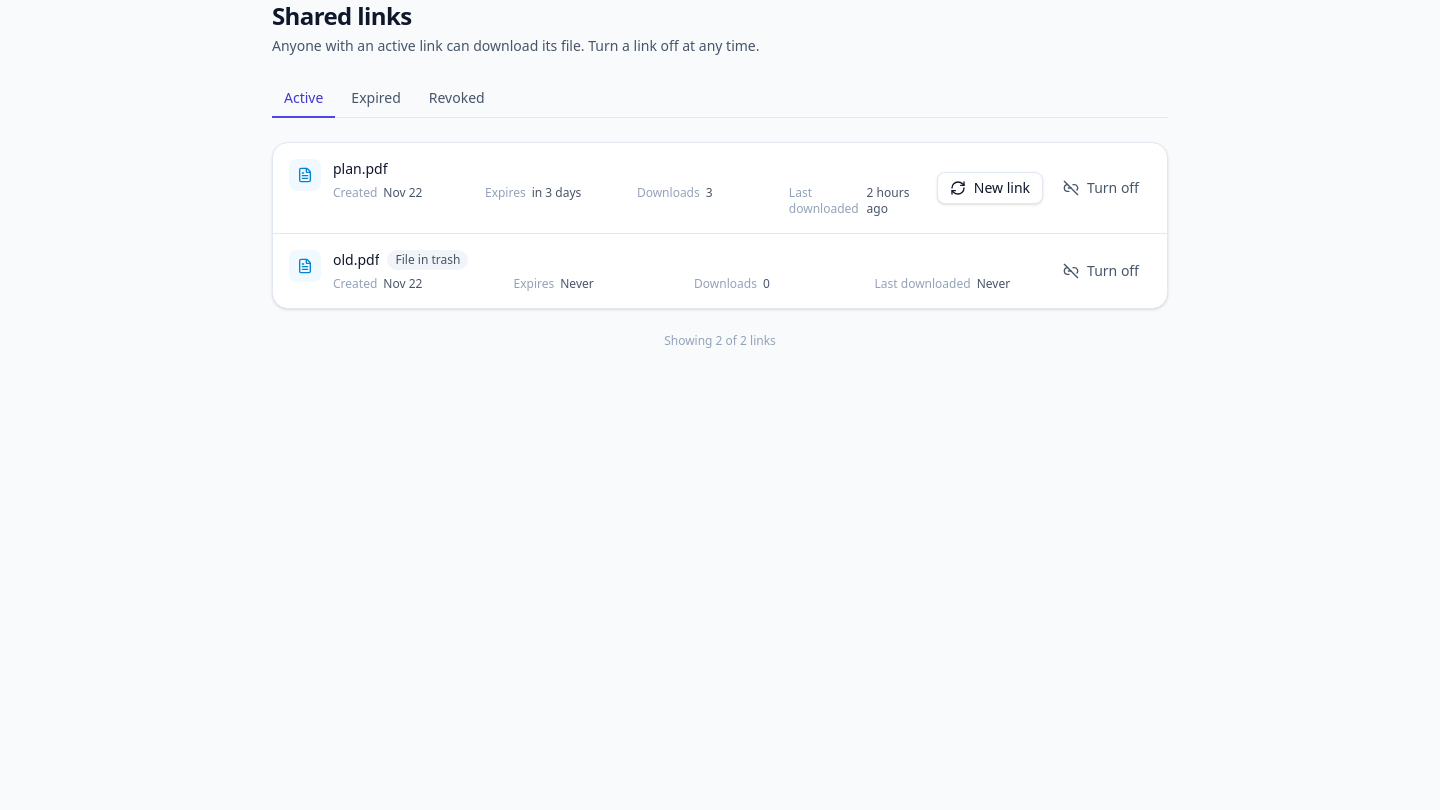
Test: Shared page › "New link" explains what happens, then shows the new link once
Check: the text "plan.pdf" is shown, box [333,159,388,179]
Click the button with aria-label "Get a new link for plan.pdf": (990, 188) [937,172,1043,204]
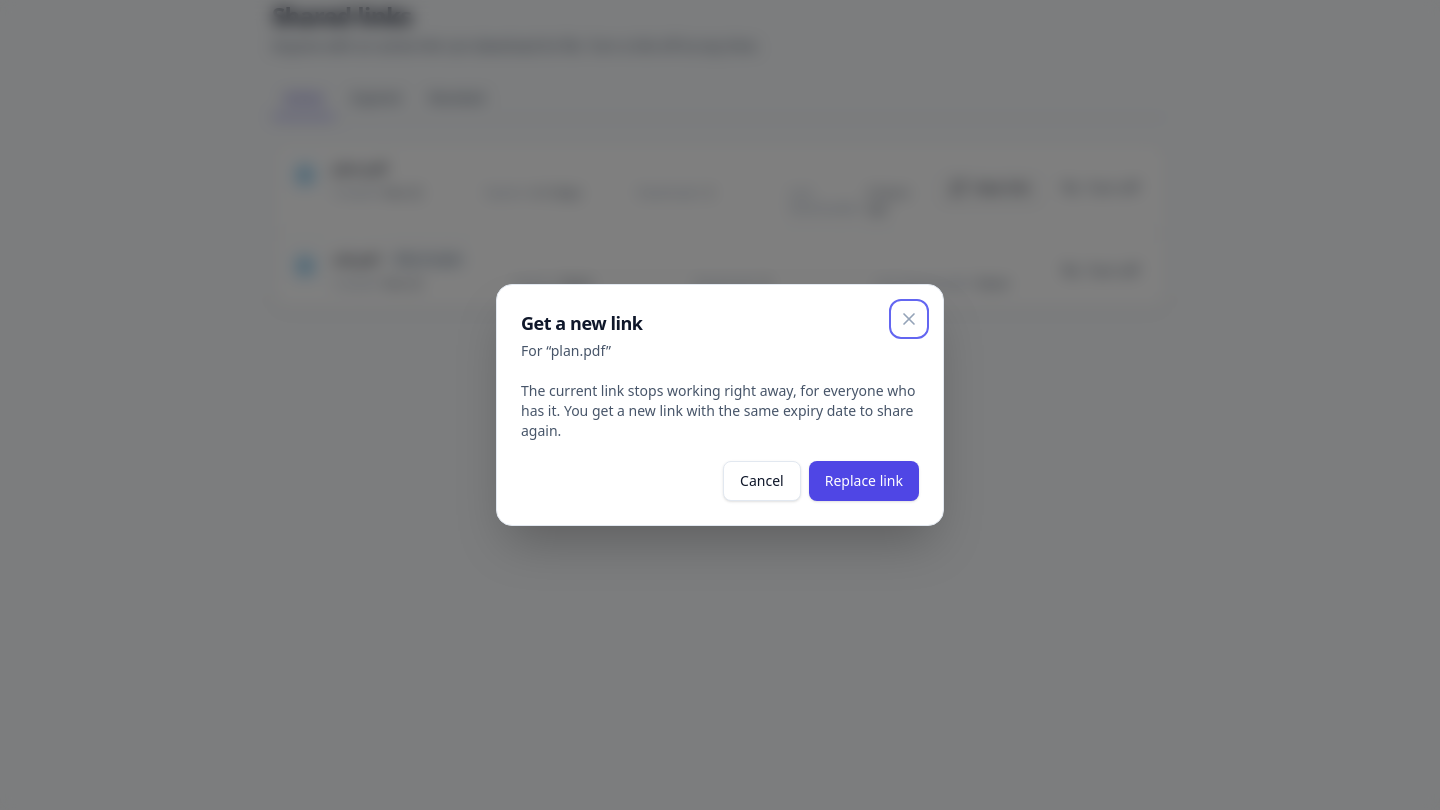
Check: the text "stops working right away" is shown, box [521,381,915,440]
Click the button "Replace link": (864, 481) [809,461,919,501]
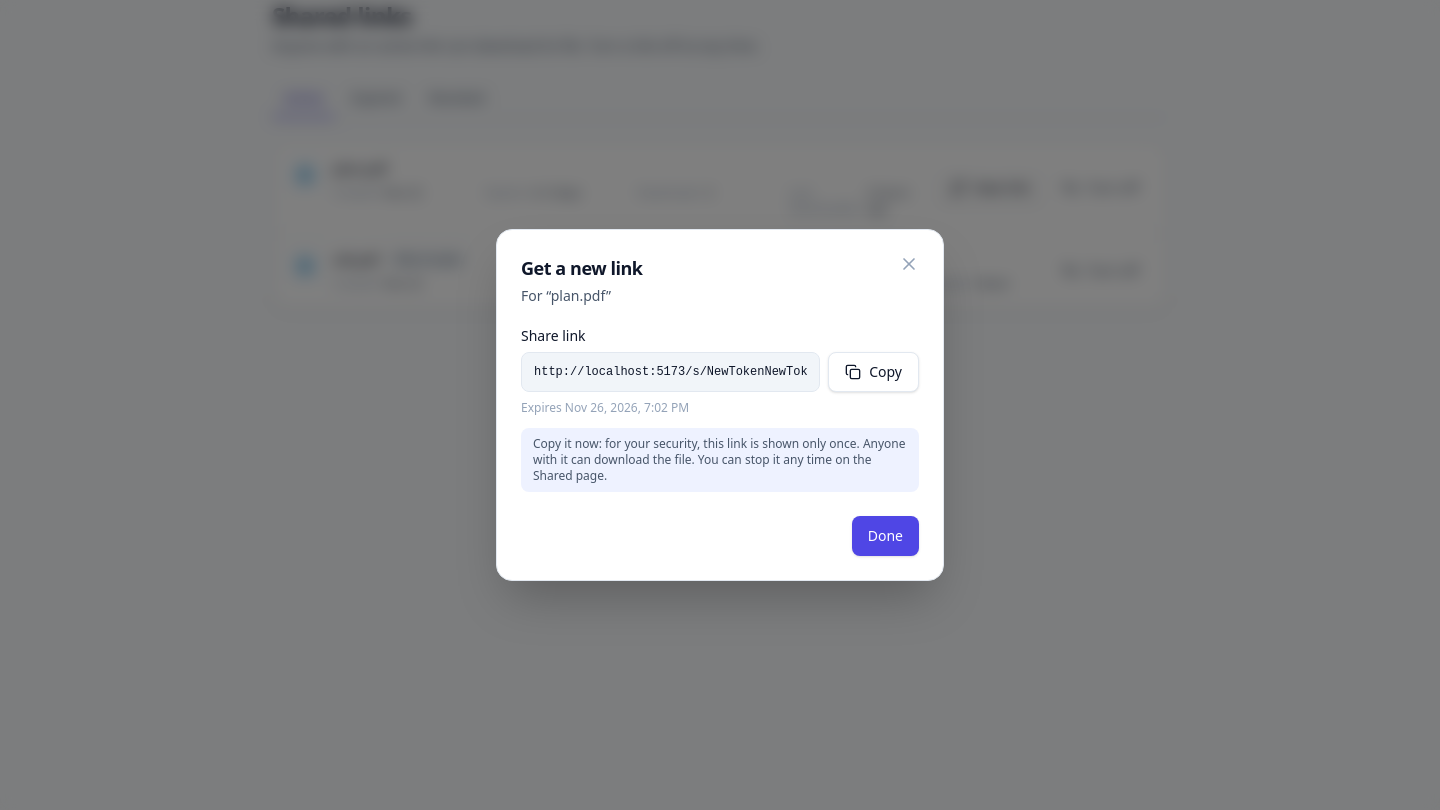
Check: the field labelled "Share link" holds "http://localhost:5173/s/NewTokenNewTokenNewTokenNewTokenNewToken123", box [521,352,820,392]
Check: the text "shown only once" is shown, box [533,435,906,484]
